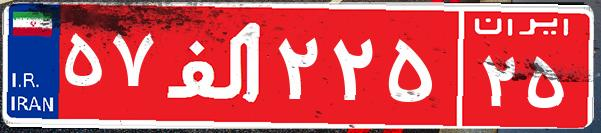2: (273, 28, 330, 110), (330, 28, 385, 110), (475, 38, 525, 113)
5: (385, 28, 445, 110), (57, 26, 110, 107), (525, 38, 570, 115)
7: (110, 28, 158, 105)
الف: (158, 15, 273, 115)
